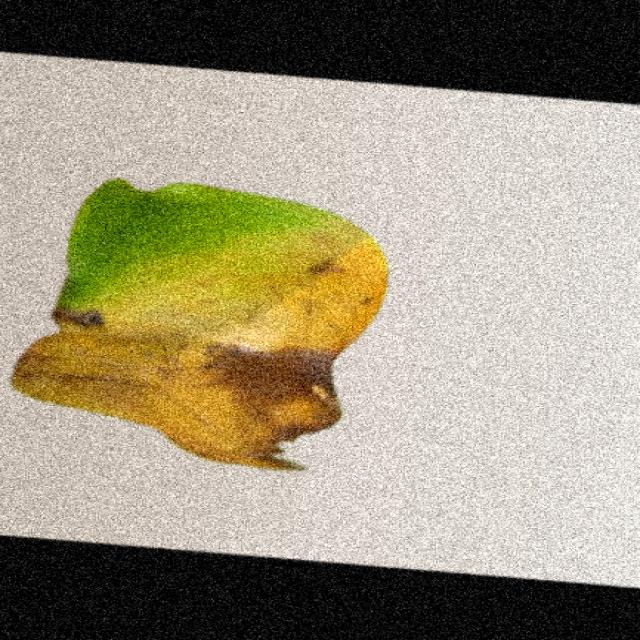daun berpenyakit kuning: (14, 180, 387, 470)
